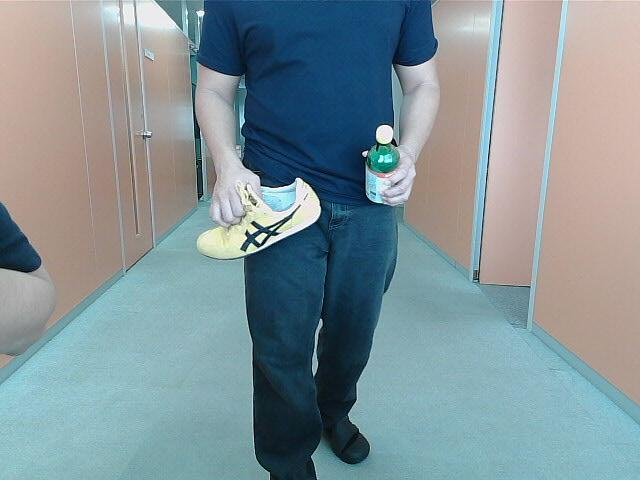Lemon_sapporo: (365, 121, 408, 211)
Shoes: (192, 182, 326, 258)
